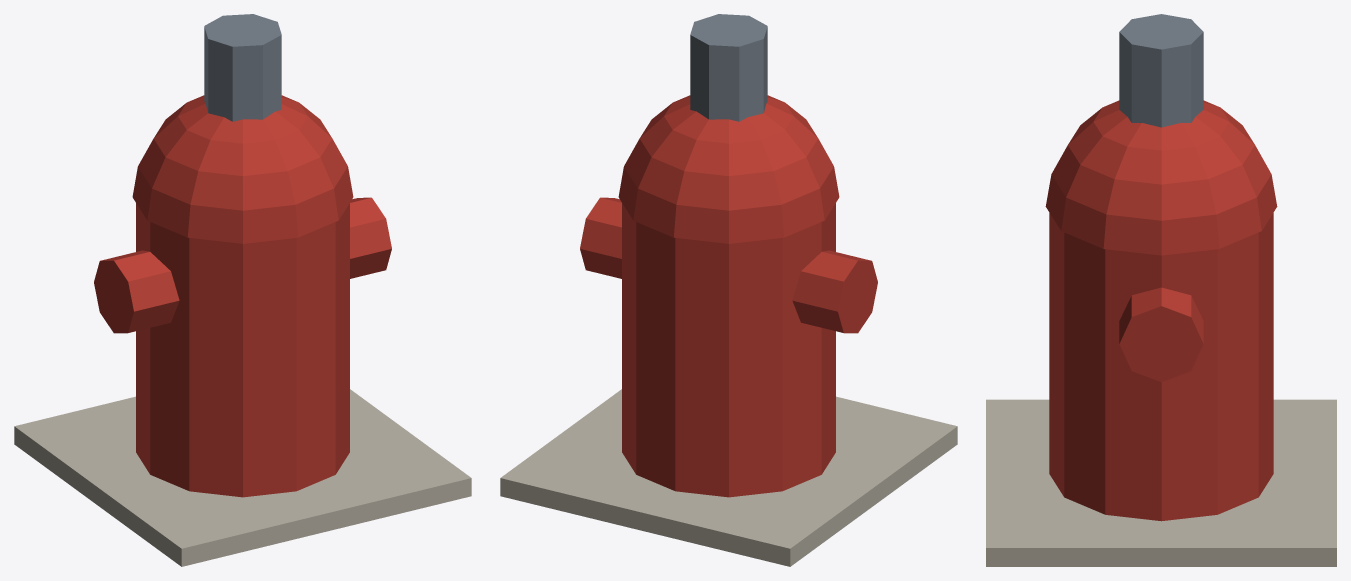
The model's file is fire-hydrant.glb.
3 views of the same model, side by side, from view 1: azimuth 30°, elevation 25°; view 2: azimuth 150°, elevation 25°; view 3: azimuth 270°, elevation 25° (orthographic). The views are drawn at different scales.
Parts seen in each view (by area): view 1: cw_paint; view 2: cw_paint; view 3: cw_paint.
Part boxes in pixels (x1,y1,x2,y2): cw_paint: [14, 14, 471, 566]; cw_paint: [500, 14, 957, 566]; cw_paint: [986, 14, 1336, 566].
Bounding box in the file's own units: 1 × 1.45 × 1.
